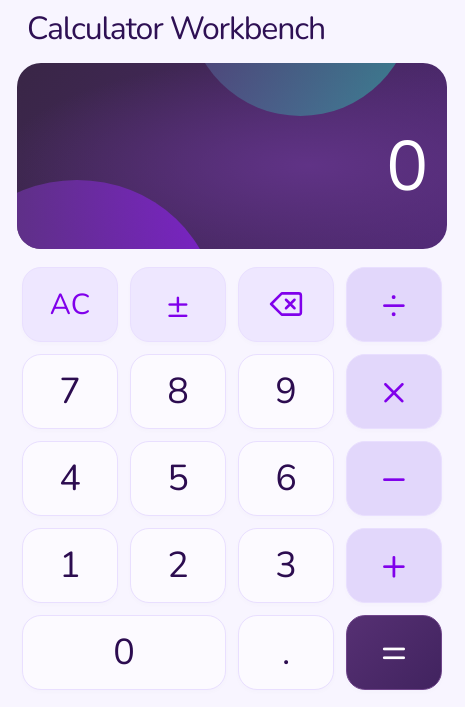
calculator keypad › sends 12 × 2 and displays the backend result 24
Click the button "1" at (70, 565), box [22,528,118,603]
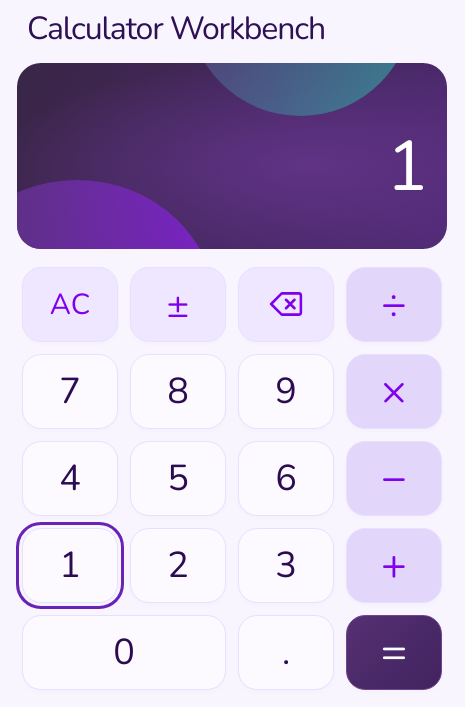
Click the button "2" at (178, 565), box [130,528,226,603]
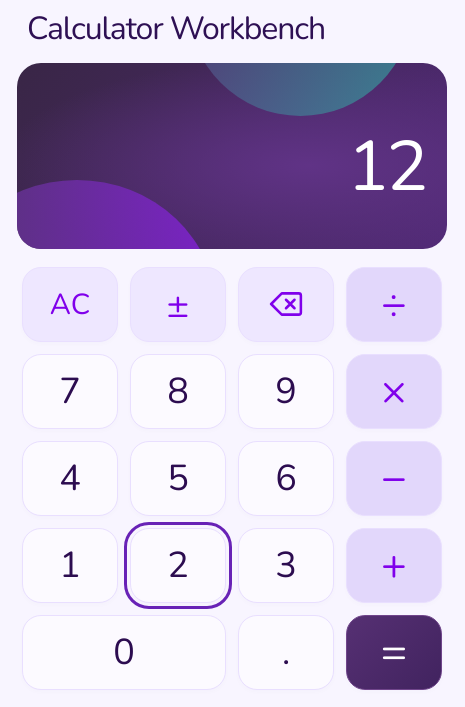
Click the button named "Multiply" at (394, 391), box [346,354,442,429]
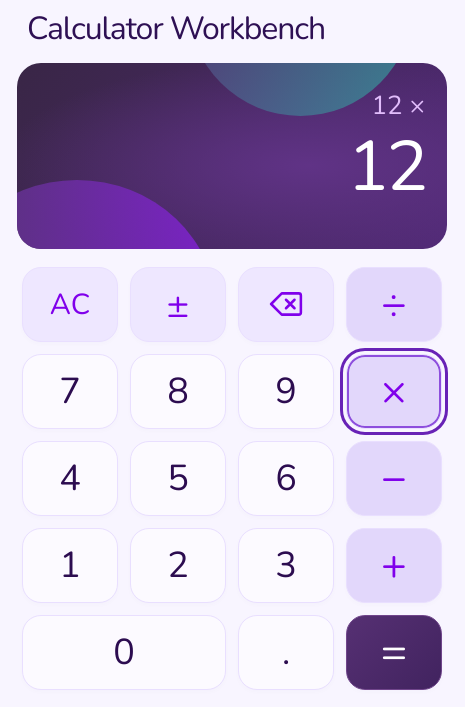
Click the button "2" at (178, 565), box [130,528,226,603]
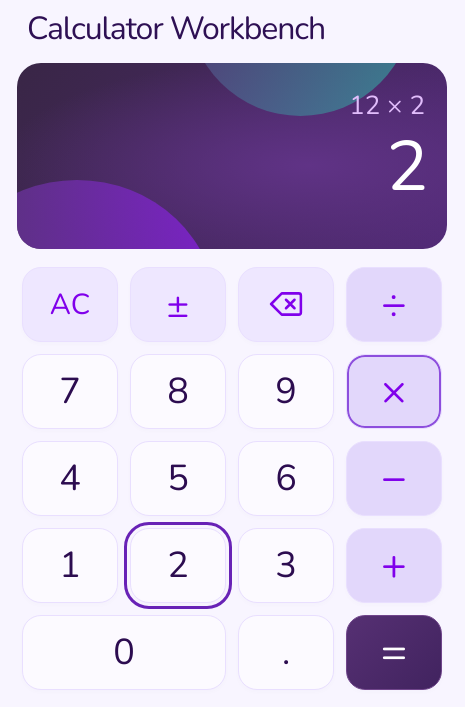
Click the button named "Equals" at (394, 652), box [346,615,442,690]
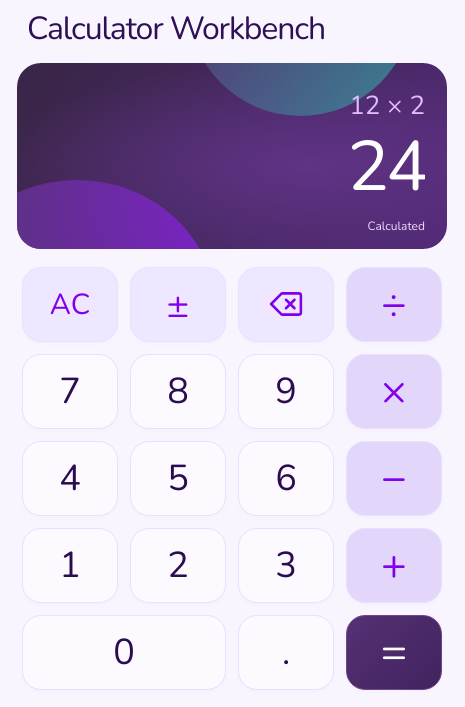
Check: the text named "Expression" reads "12 × 2", box [349,88,425,123]
Check: the text named "Result" reads "24", box [347,119,425,215]
Check: the text "Calculated" is shown, box [368,218,425,234]
